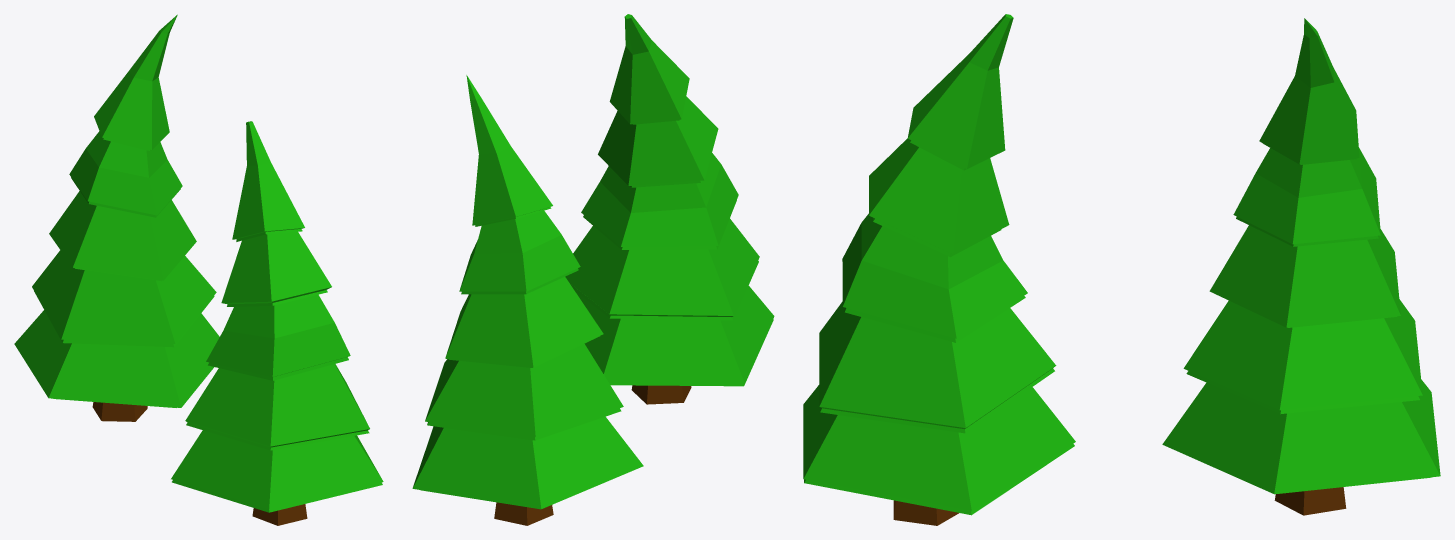
File: twinTrees.glb
3 views of the same model, side by side, from view 1: azimuth 30°, elevation 25°; view 2: azimuth 150°, elevation 25°; view 3: azimuth 270°, elevation 25° (orthographic). The views are drawn at different scales.
Visible parts, largest first — view 1: Cylinder.001, Cylinder; view 2: Cylinder.001, Cylinder; view 3: Cylinder, Cylinder.001.
Boxes of the visible parts, x1,y1,x2,y2 form: Cylinder.001: [14, 14, 219, 421]; Cylinder: [171, 121, 383, 525]; Cylinder.001: [412, 75, 643, 525]; Cylinder: [565, 14, 774, 404]; Cylinder: [803, 14, 1075, 525]; Cylinder.001: [1162, 18, 1440, 515].
Size of the model in its own units: 2.2 by 4.07 by 4.53.
